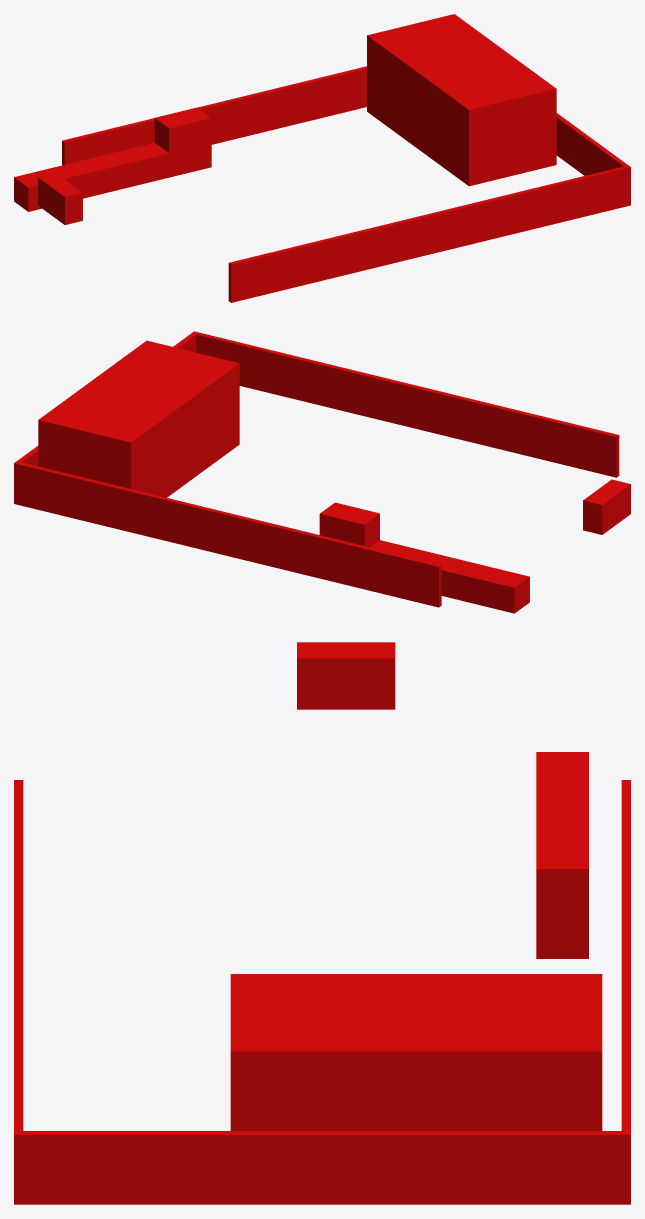
The model's file is SM_Bld_Commercial_Large_01_Attachments_01_Collision.fbx.
3 renders of one model, top to bottom at view 1: azimuth 30°, elevation 25°; view 2: azimuth 150°, elevation 25°; view 3: azimuth 270°, elevation 25°, orthographic. The views are drawn at different scales.
Parts seen in each view (by area): view 1: SM_Bld_Commercial_Large_01_Attachments_01_Collision; view 2: SM_Bld_Commercial_Large_01_Attachments_01_Collision; view 3: SM_Bld_Commercial_Large_01_Attachments_01_Collision.
Part boxes in pixels (box(x1,y1,x2,y2)): SM_Bld_Commercial_Large_01_Attachments_01_Collision: box(14, 14, 630, 302); SM_Bld_Commercial_Large_01_Attachments_01_Collision: box(14, 331, 630, 613); SM_Bld_Commercial_Large_01_Attachments_01_Collision: box(14, 642, 630, 1204).
Bounding box in the file's own units: 1691 × 254 × 1016.
